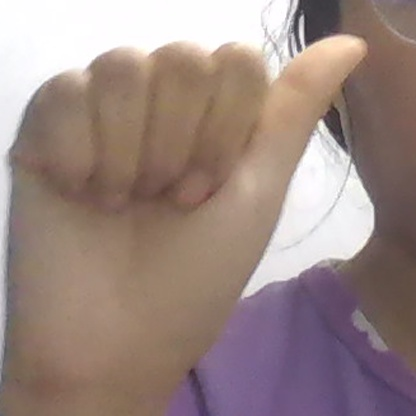A: (0, 36, 366, 390)
